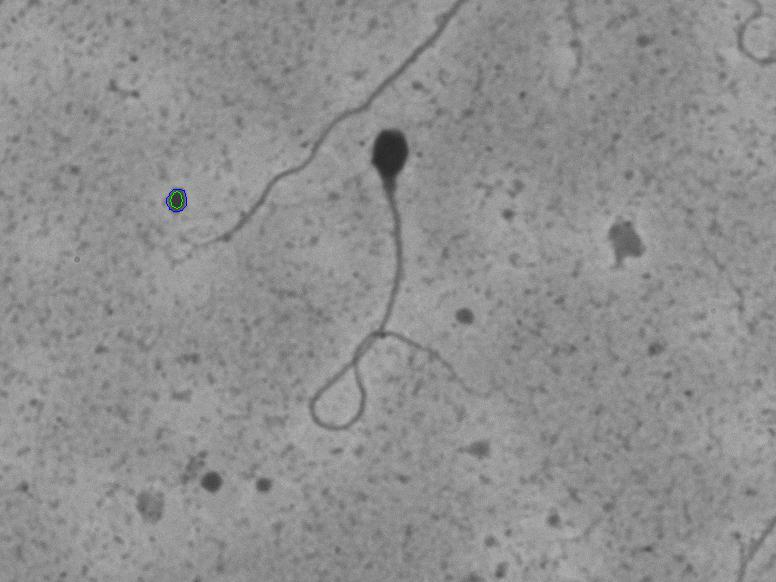Normal: (299, 119, 514, 472)
